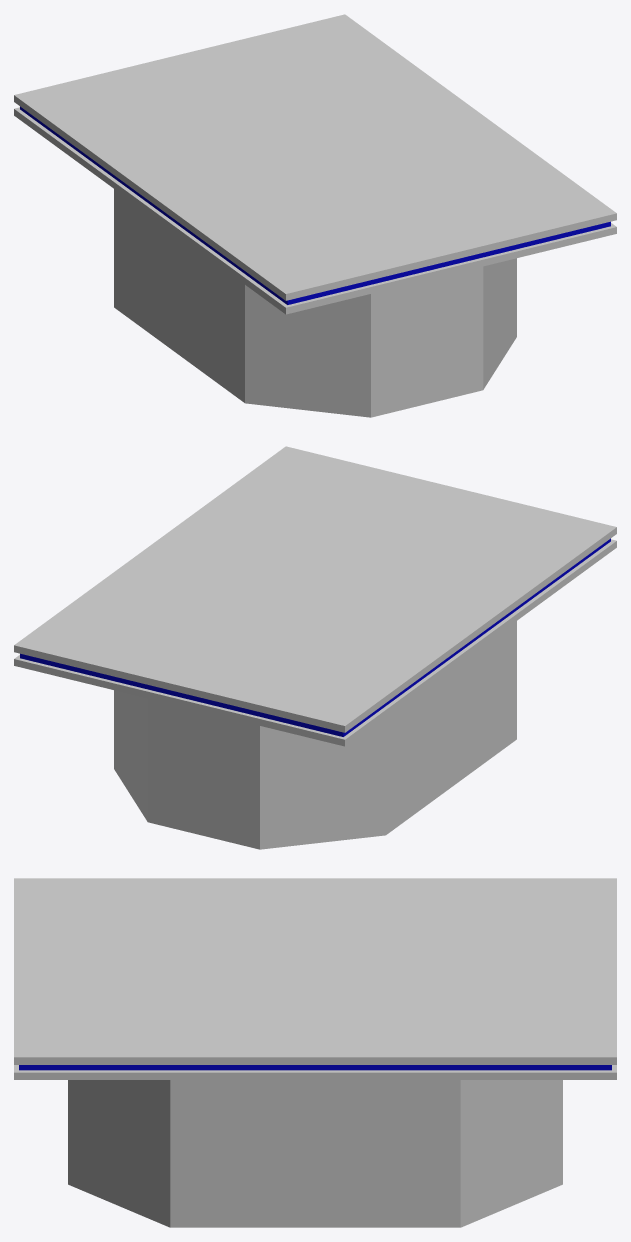
Rendered from Table.fbx.
3 renders of one model, top to bottom at view 1: azimuth 30°, elevation 25°; view 2: azimuth 150°, elevation 25°; view 3: azimuth 270°, elevation 25°, orthographic. The views are drawn at different scales.
Visible parts, largest first — view 1: Table; view 2: Table; view 3: Table.
Part boxes in pixels (x1,y1,x2,y2): Table: [14, 14, 616, 417]; Table: [14, 446, 616, 849]; Table: [14, 878, 616, 1227].
Size of the model in its own units: 1.24 by 0.6025 by 1.77.
